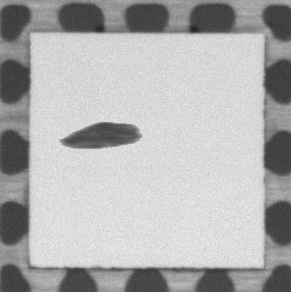DIE_INK: (52, 119, 150, 152)
